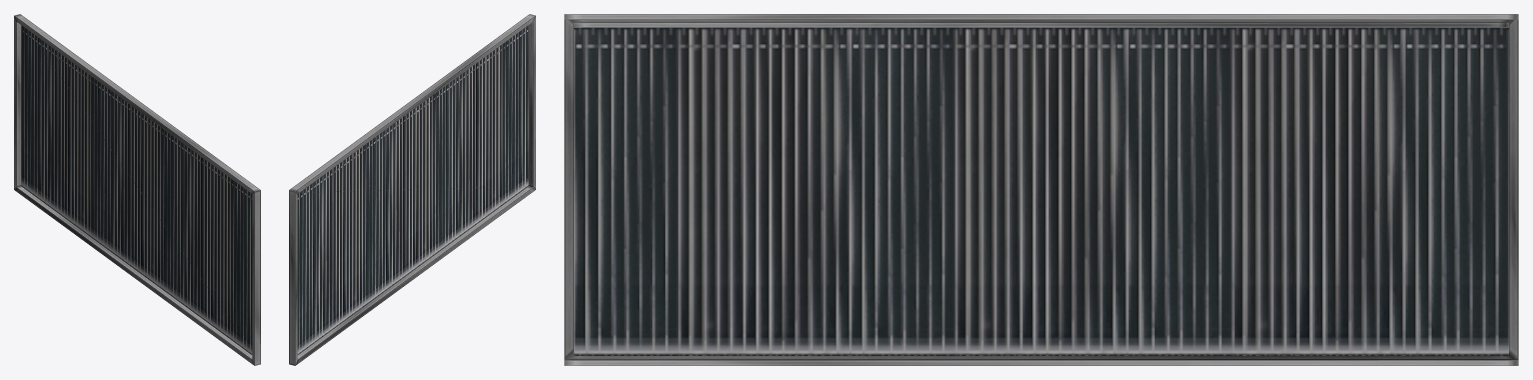
Rendered from SM_SYD_Blinds_Wide.fbx.
3 views of the same model, side by side, from view 1: azimuth 30°, elevation 25°; view 2: azimuth 150°, elevation 25°; view 3: azimuth 270°, elevation 25° (orthographic). The views are drawn at different scales.
Visible parts, largest first — view 1: SM_SYD_Blinds_Wide; view 2: SM_SYD_Blinds_Wide; view 3: SM_SYD_Blinds_Wide.
Boxes of the visible parts, x1,y1,x2,y2 form: SM_SYD_Blinds_Wide: (14,14,260,365); SM_SYD_Blinds_Wide: (289,14,535,365); SM_SYD_Blinds_Wide: (564,14,1518,365).
Size of the model in its own units: 15 by 400 by 1000.
